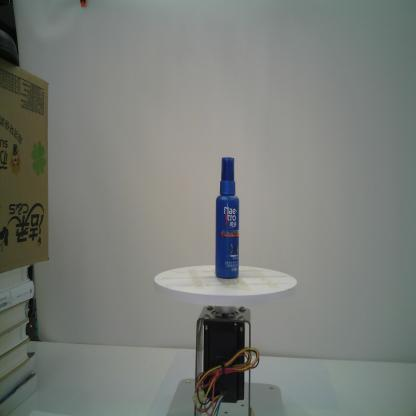Personal Hygiene: (214, 155, 240, 280)
